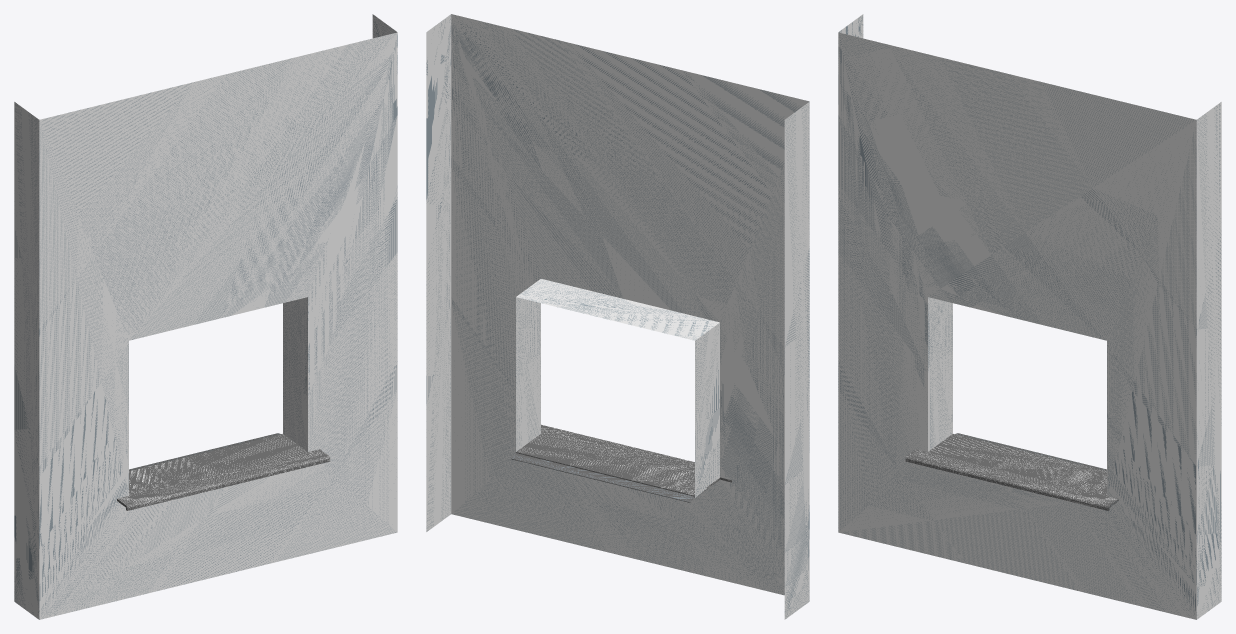
The model's file is WindowBlock_os_[300x400]_150x124x[080].dae.
The picture shows the model from 3 angles, left to right: view 1: azimuth 30°, elevation 25°; view 2: azimuth 150°, elevation 25°; view 3: azimuth 330°, elevation 25°; orthographic projection.
Parts seen in each view (by area): view 1: group_2 (×2), group_1; view 2: group_2 (×2), group_1 (×2); view 3: group_2 (×2), group_1.
Part boxes in pixels (x1,y1,x2,y2): group_2 (×2): (14, 14, 397, 619); group_1: (117, 434, 330, 510); group_2 (×2): (426, 14, 809, 619); group_1 (×2): (511, 424, 731, 502); group_2 (×2): (838, 14, 1221, 619); group_1: (905, 434, 1118, 510).
Size of the model in its own units: 118 by 23.03 by 157.
